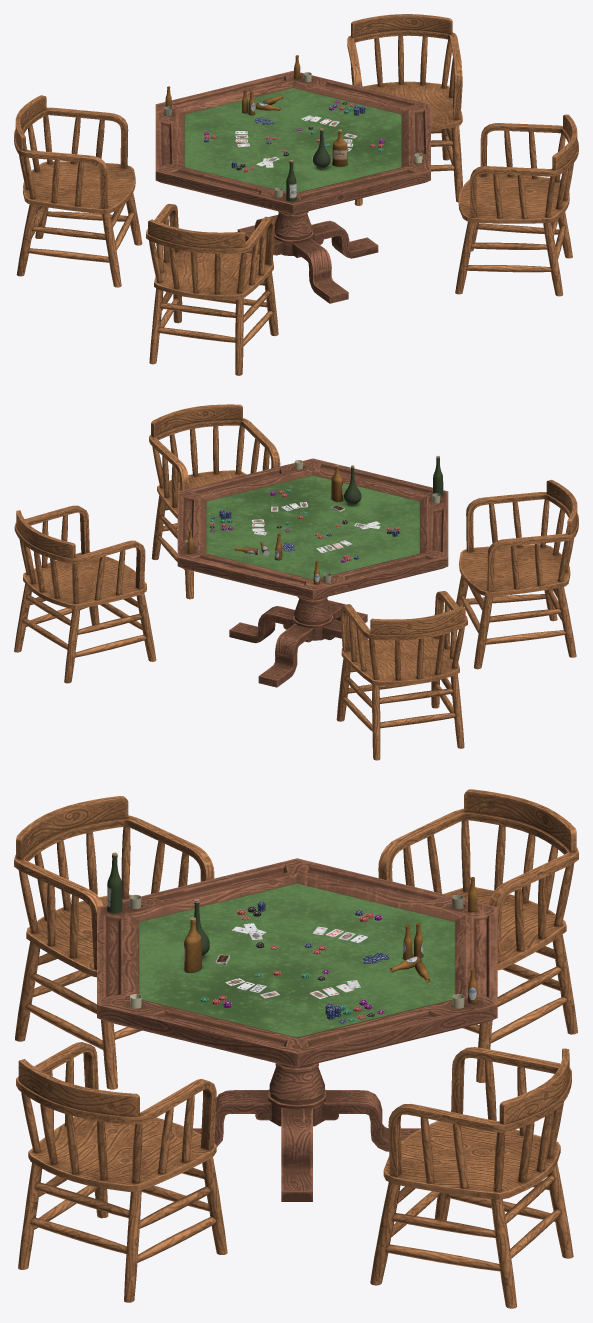
The model's file is stylized_poker_table_-_game_asset.glb.
The picture shows the model from 3 angles, top to bottom: view 1: azimuth 30°, elevation 25°; view 2: azimuth 150°, elevation 25°; view 3: azimuth 270°, elevation 25°; orthographic projection. The views are drawn at different scales.
Parts seen in each view (by area): view 1: Table_Poker_low, Assise (×4), Contour (×4), Dossier (×4), Pied_poker_low_03, Pied_07 (×2), Pied_poker_low_04, Pied_01 (×2), Pied_06 (×2), Pied_05 (×2), Support_pied_low, Support_pied_03 (×2) (+5 smaller); view 2: Table_Poker_low, Assise (×4), Contour (×4), Dossier (×4), Pied_01 (×3), Pied_07 (×3), Pied_poker_low_01, Pied_poker_low_04, Pied_06 (×2), Support_pied_low, Pied_05, Support_pied_10 (+4 smaller); view 3: Table_Poker_low, Assise (×4), Contour (×4), Dossier (×4), Pied_01 (×3), Pied_07 (×3), Pied_poker_low_04, Support_pied_low, Support_pied_03 (×3), Pied_poker_low_01, Pied_05 (×2), Support_pied_10 (×2) (+8 smaller).
Part boxes in pixels (<box>): Table_Poker_low: <box>155,70,430,214</box>; Assise (×4): <box>23,81,569,299</box>; Contour (×4): <box>14,30,578,264</box>; Dossier (×4): <box>15,14,577,248</box>; Pied_poker_low_03: <box>292,238,348,303</box>; Pied_07 (×2): <box>16,204,243,375</box>; Pied_poker_low_04: <box>311,220,378,258</box>; Pied_01 (×2): <box>149,223,563,364</box>; Pied_06 (×2): <box>451,126,475,294</box>; Pied_05 (×2): <box>102,213,278,335</box>; Support_pied_low: <box>274,211,313,255</box>; Support_pied_03 (×2): <box>27,223,559,262</box>; Table_Poker_low: <box>177,458,448,600</box>; Assise (×4): <box>23,470,570,685</box>; Contour (×4): <box>14,418,578,651</box>; Dossier (×4): <box>16,404,577,635</box>; Pied_01 (×3): <box>14,584,576,760</box>; Pied_07 (×3): <box>64,496,464,748</box>; Pied_poker_low_01: <box>258,623,313,687</box>; Pied_poker_low_04: <box>229,606,294,643</box>; Pied_06 (×2): <box>336,596,492,721</box>; Support_pied_low: <box>292,596,333,640</box>; Pied_05: <box>136,593,156,661</box>; Support_pied_10: <box>485,630,565,644</box>; Table_Poker_low: <box>97,858,497,1068</box>; Assise (×4): <box>26,887,566,1199</box>; Contour (×4): <box>14,808,578,1176</box>; Dossier (×4): <box>16,789,576,1124</box>; Pied_01 (×3): <box>18,934,577,1308</box>; Pied_07 (×3): <box>15,941,573,1302</box>; Pied_poker_low_04: <box>281,1107,312,1201</box>; Support_pied_low: <box>268,1063,325,1126</box>; Support_pied_03 (×3): <box>25,1004,555,1262</box>; Pied_poker_low_01: <box>322,1090,420,1151</box>; Pied_05 (×2): <box>101,1020,227,1254</box>; Support_pied_10 (×2): <box>385,996,567,1271</box>.
Size of the model in its own units: 3.25 by 1.18 by 2.45.
2 materials, 2 textured.
